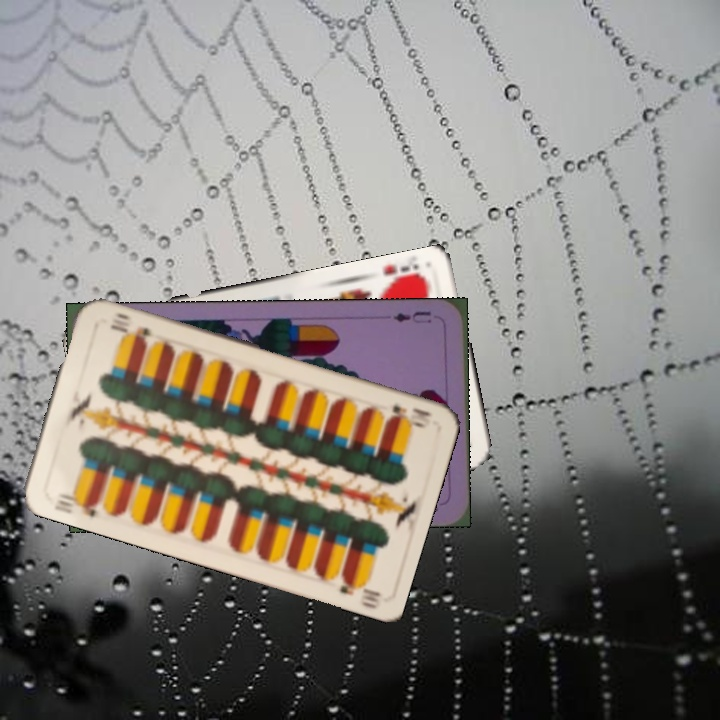E10: (50, 489, 102, 520), (385, 400, 435, 431)
EU: (389, 307, 434, 326)
HK: (376, 258, 428, 290)
